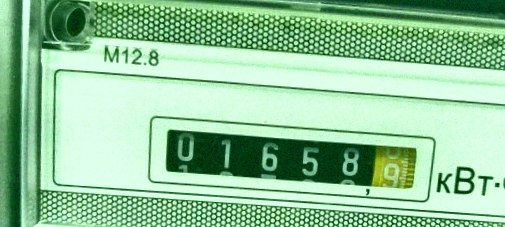0: (173, 130, 195, 161)
1: (216, 136, 235, 169)
5: (298, 144, 321, 176)
6: (258, 138, 280, 172)
8: (339, 143, 361, 177)
9: (378, 160, 401, 189)
screen: (135, 106, 440, 209)
